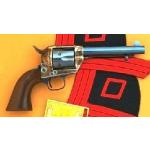Pistol: (6, 41, 146, 111)
